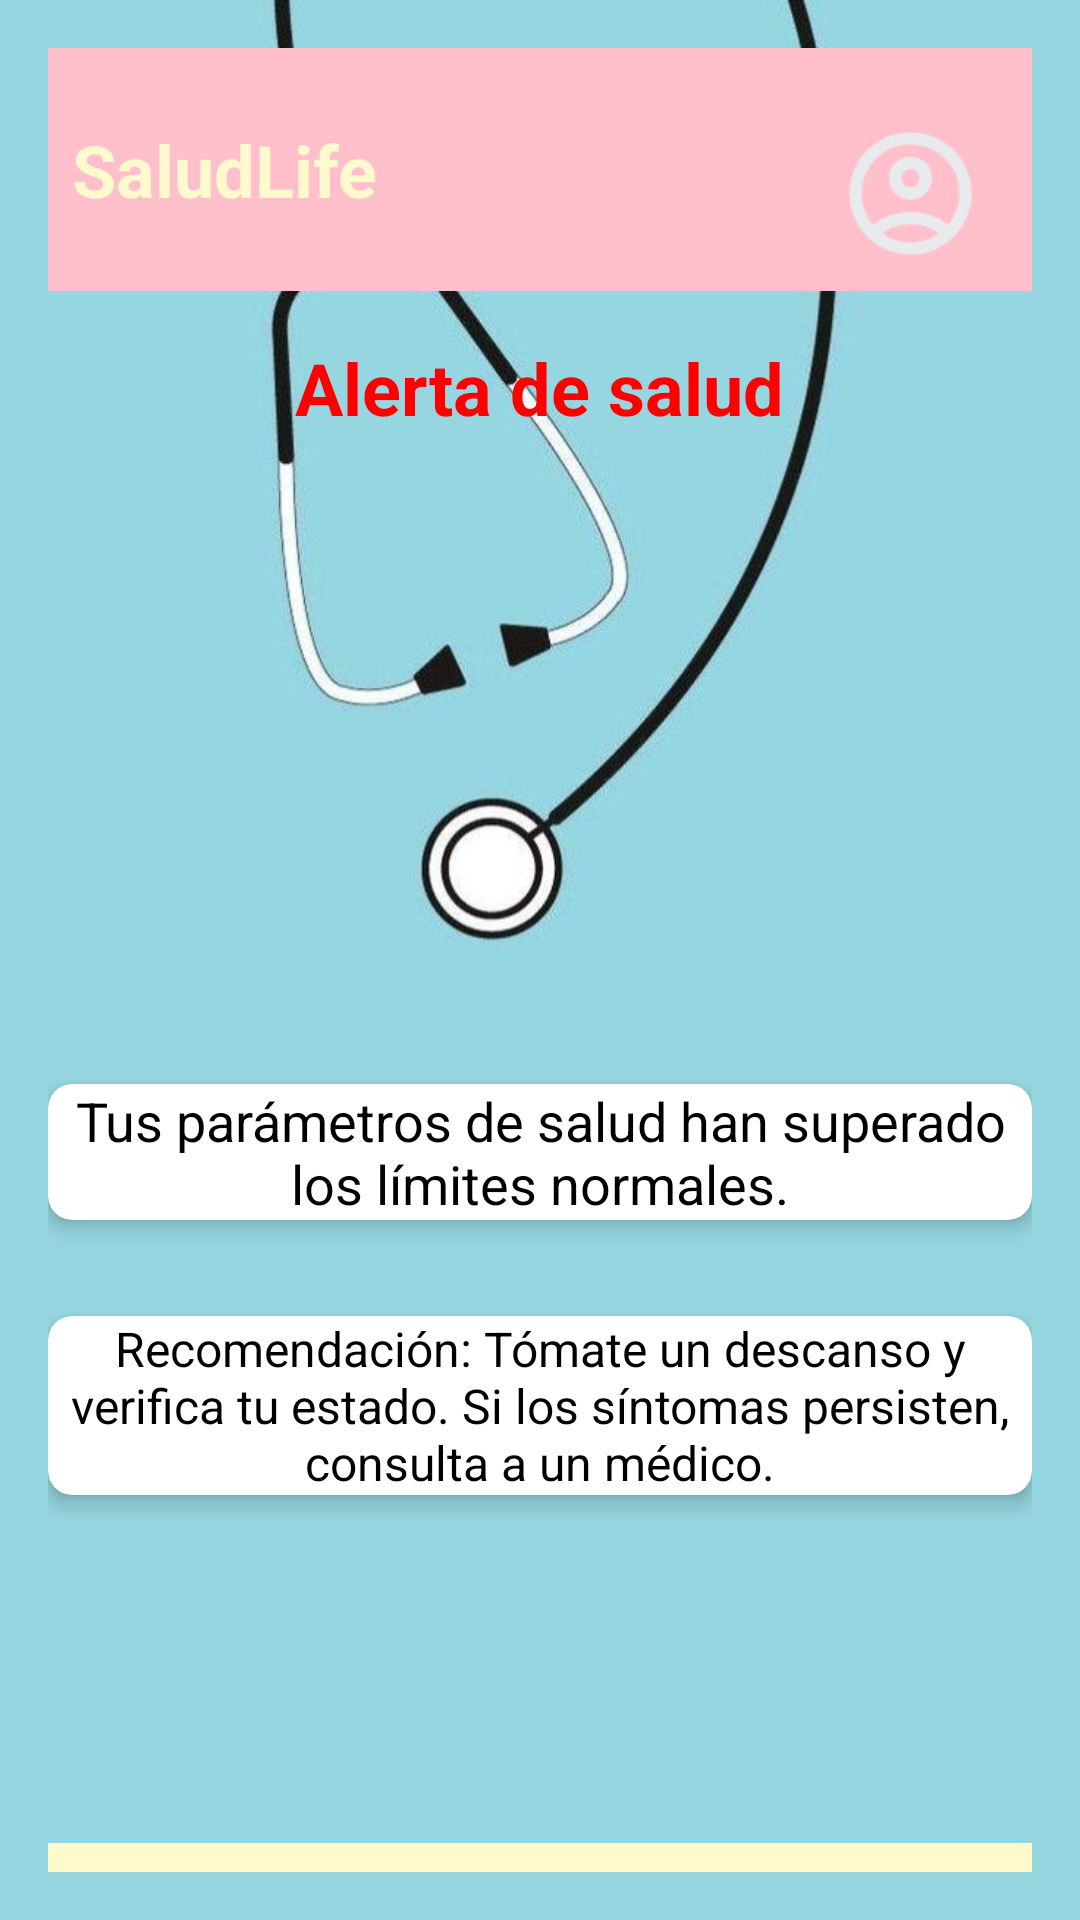

Where to tap for icons on this 1080 x 1920 app screen, as (x,y):
user: (910,193)
